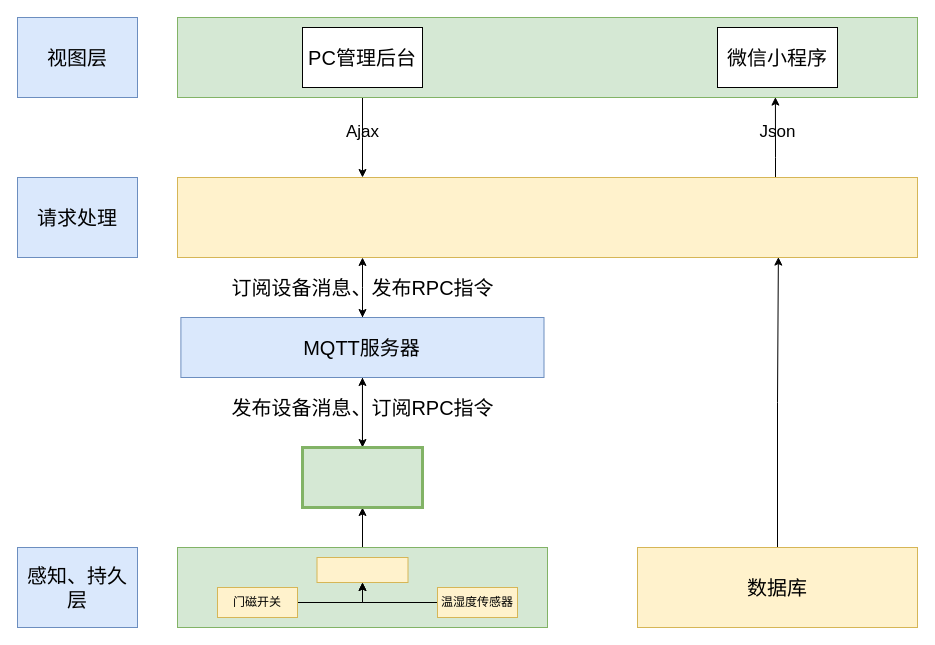
Image size: 935x645. Some labels were removed from this diagram. The shapes that lost their labels are listed below. From the top down, each one's box as (x1, y1, x2, y2) in pixels, then its label:
(176, 176, 918, 258): 业务逻辑
(300, 446, 424, 508): WIFI
(316, 556, 408, 582): ESP8266
